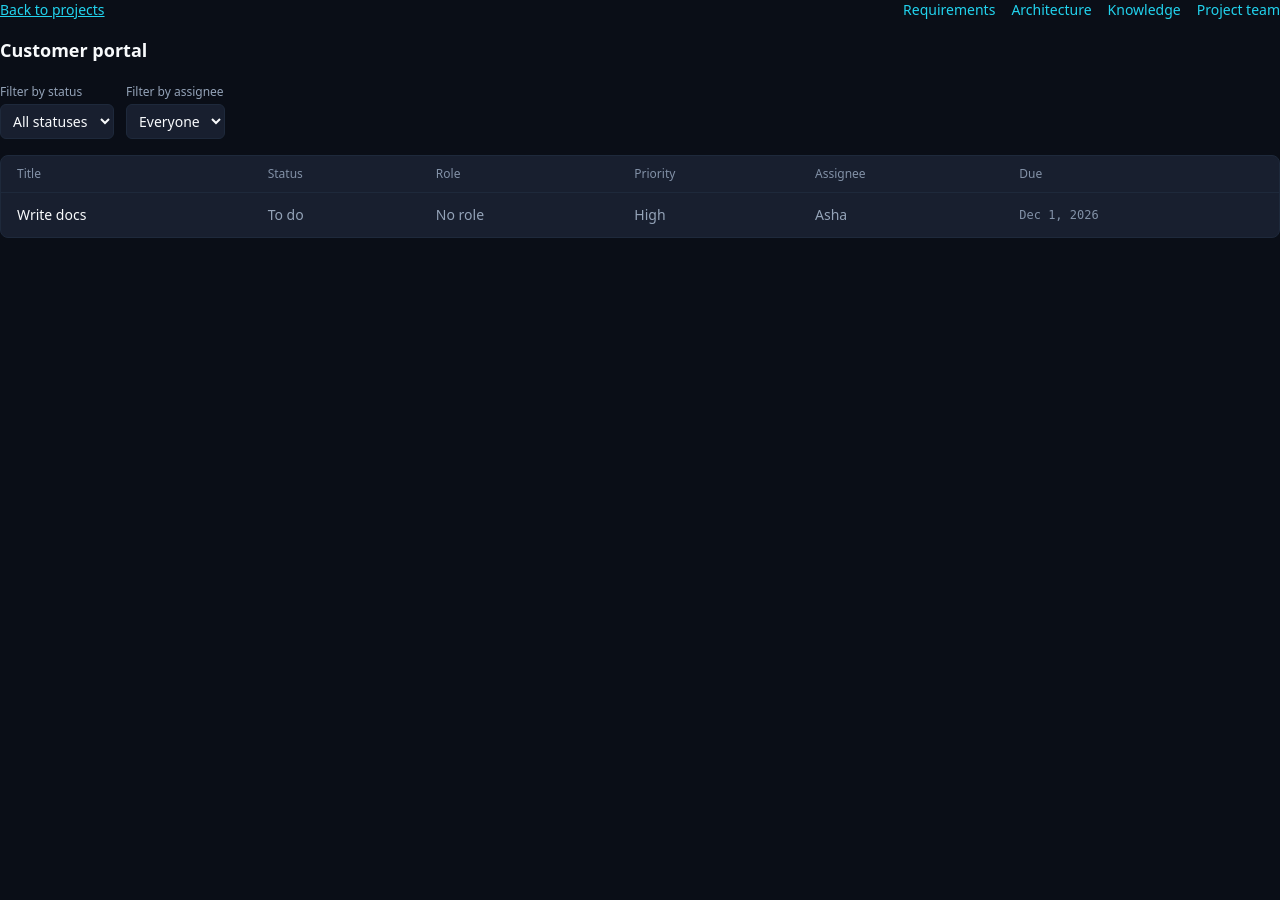
Scenario: TaskListPage › hides editing controls for a viewer
Click the button "Write docs": x=52, y=215 [17,205,86,225]
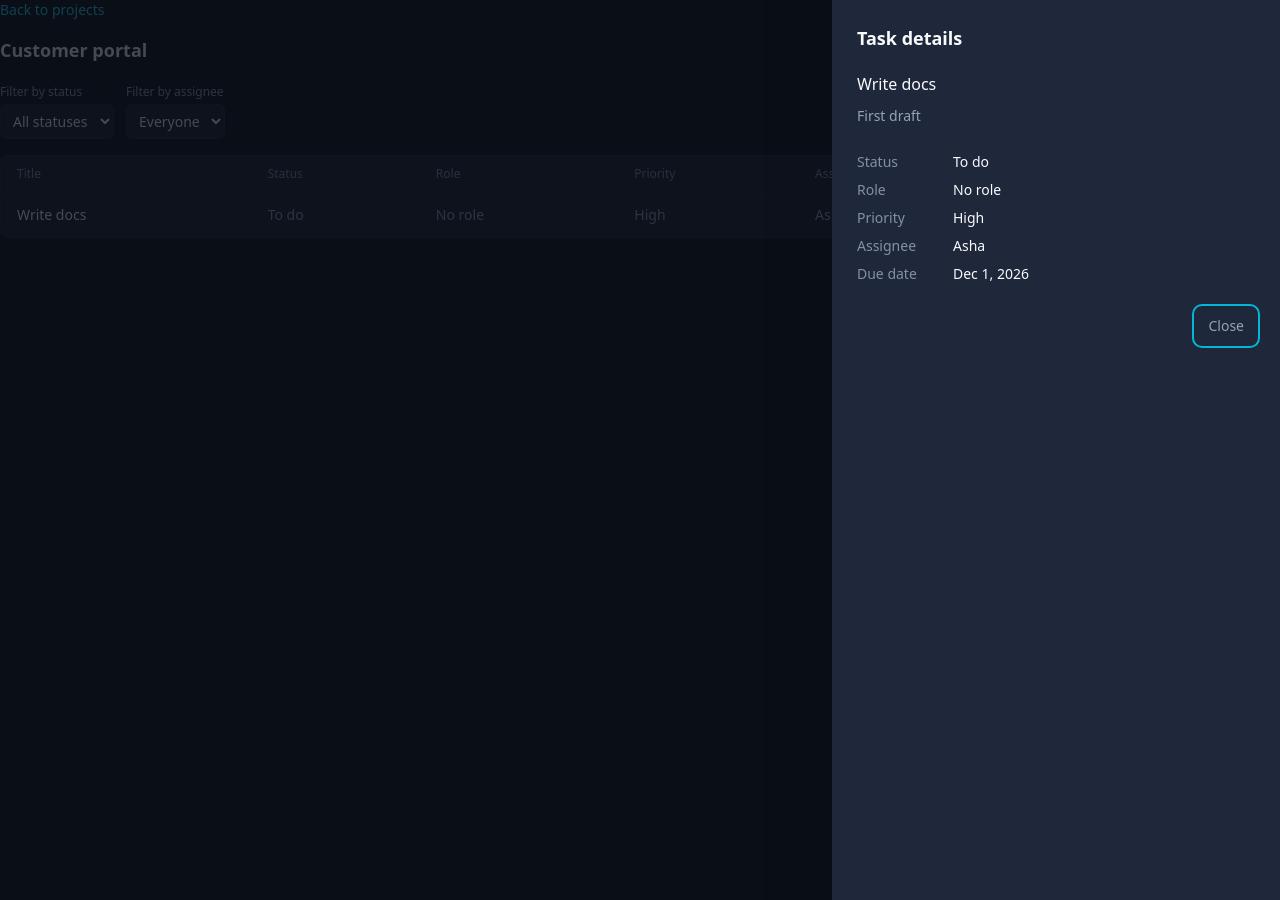
Expected: the text "First draft" is shown, [857,106,921,125]
